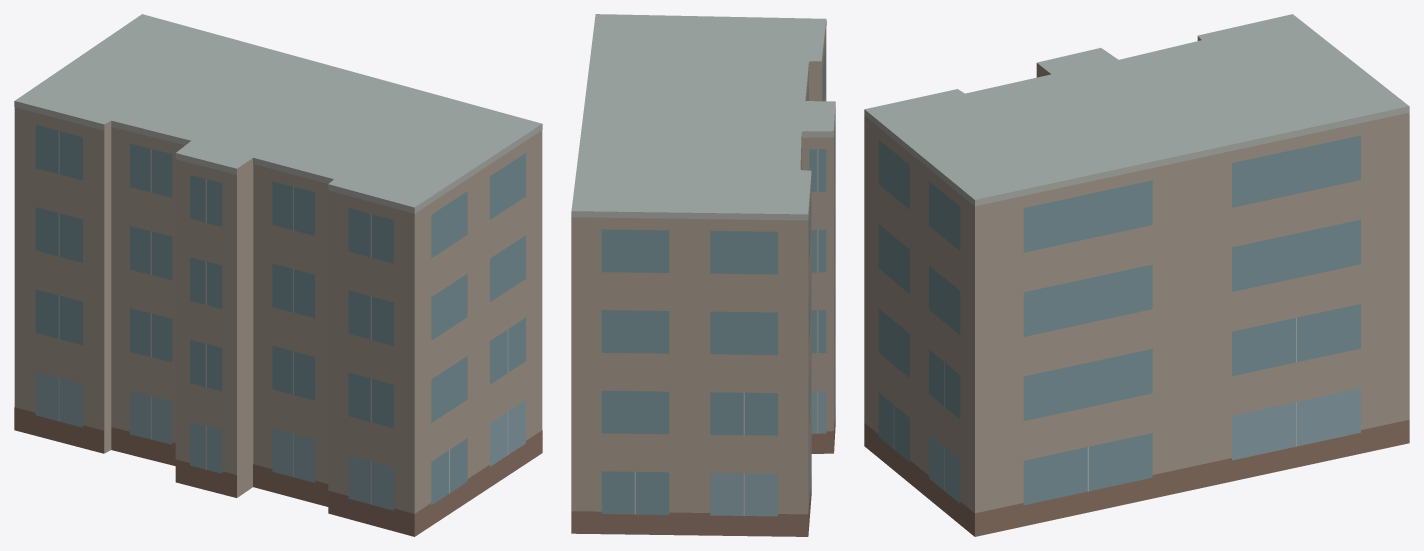
Rendered from survey-upis-32768311.glb.
3 renders of one model, left to right at view 1: azimuth 30°, elevation 25°; view 2: azimuth 150°, elevation 25°; view 3: azimuth 270°, elevation 25°, orthographic. The views are drawn at different scales.
Visible parts, largest first — view 1: survey-upis-32768311.tmp; view 2: survey-upis-32768311.tmp; view 3: survey-upis-32768311.tmp.
Part boxes in pixels (x1,y1,x2,y2): survey-upis-32768311.tmp: [14, 14, 542, 536]; survey-upis-32768311.tmp: [571, 14, 835, 536]; survey-upis-32768311.tmp: [864, 14, 1409, 536].
Bounding box in the file's own units: 15.26 × 12.88 × 18.89.
